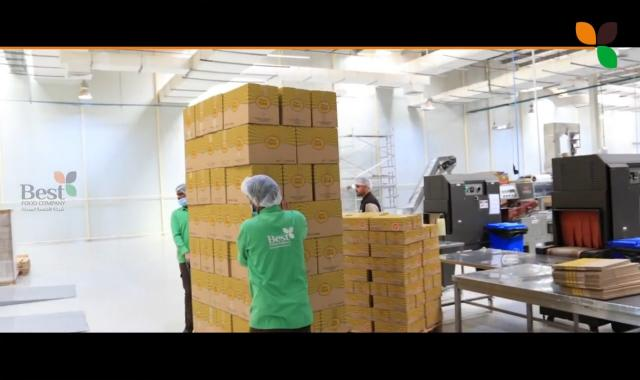hairnet: (244, 174, 280, 204), (353, 174, 373, 188), (173, 181, 188, 193)
